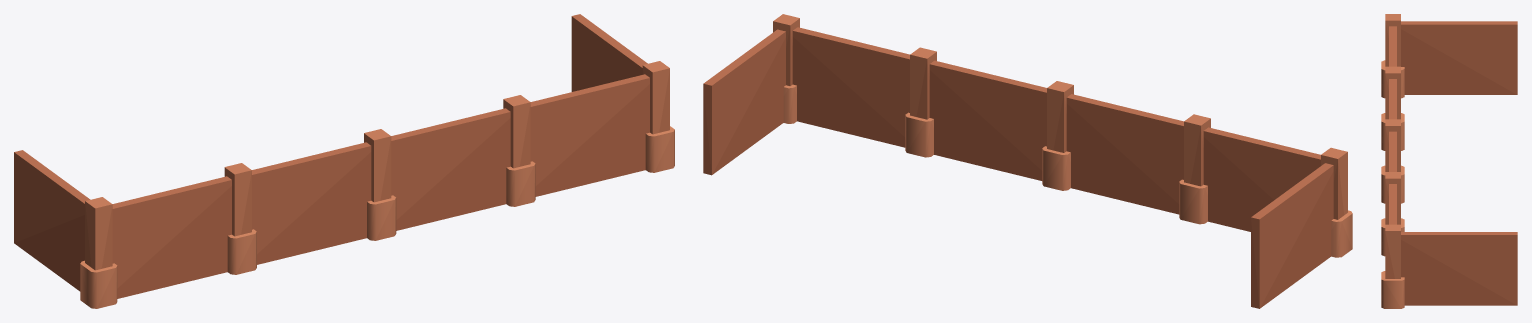
The model's file is fence-1x4.obj.
3 views of the same model, side by side, from view 1: azimuth 30°, elevation 25°; view 2: azimuth 150°, elevation 25°; view 3: azimuth 270°, elevation 25° (orthographic). The views are drawn at different scales.
Size of the model in its own units: 1.67 by 0.27 by 0.4375.
